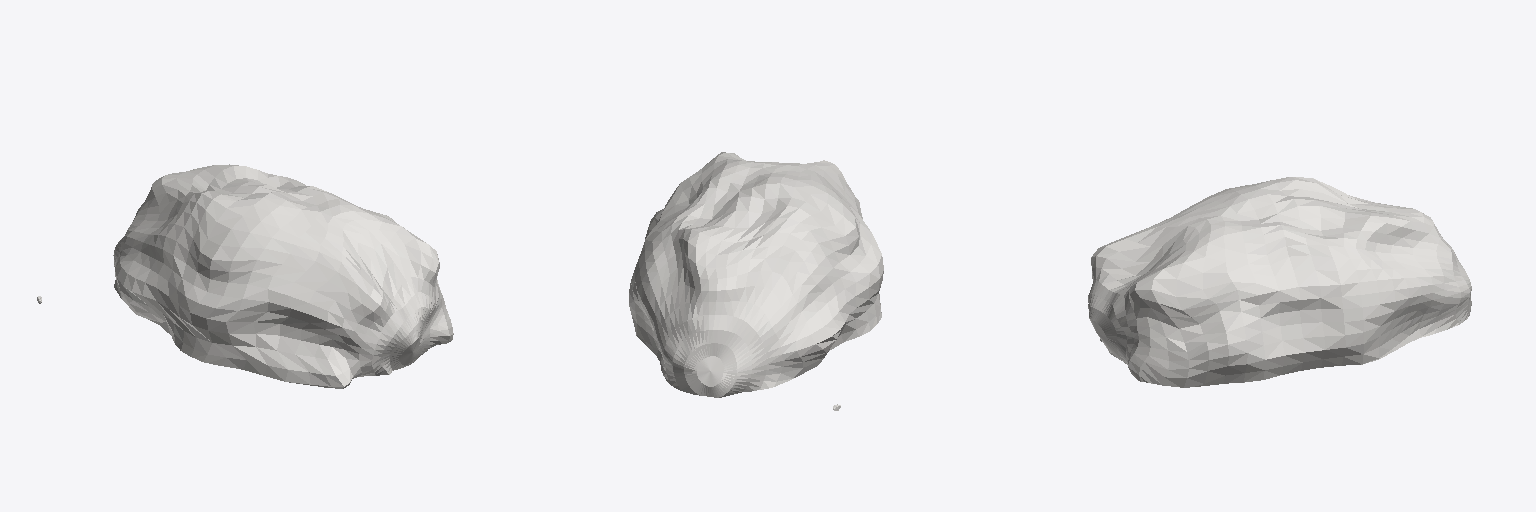
Rendered from stone.obj.
The picture shows the model from 3 angles: view 1: azimuth 30°, elevation 25°; view 2: azimuth 150°, elevation 25°; view 3: azimuth 270°, elevation 25°; orthographic projection.
Visible parts, largest first — view 1: Group_012; view 2: Group_012; view 3: Group_012.
Part boxes in pixels (bbox=[...]): Group_012: bbox=[113, 164, 453, 388]; Group_012: bbox=[629, 152, 883, 397]; Group_012: bbox=[1088, 177, 1471, 387].
Bounding box in the file's own units: 0.8332 × 0.3625 × 0.9537.